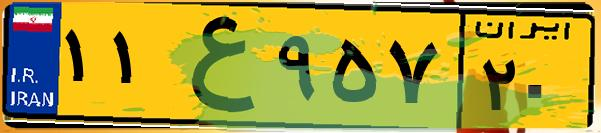0: (525, 38, 570, 115)
1: (57, 26, 110, 100), (110, 28, 158, 98)
2: (475, 38, 525, 113)
5: (330, 28, 385, 110)
7: (385, 28, 445, 110)
9: (270, 28, 330, 110)
ع: (158, 12, 270, 120)
